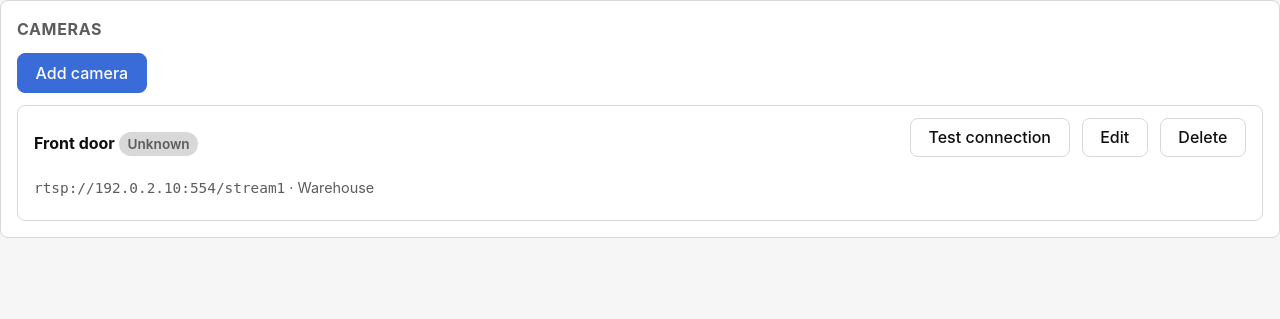
Test: CamerasPage › shows a row-level error if deleting fails
Step 1. Click the button "Delete" → point(1203, 137), box [1160,118,1246,157]
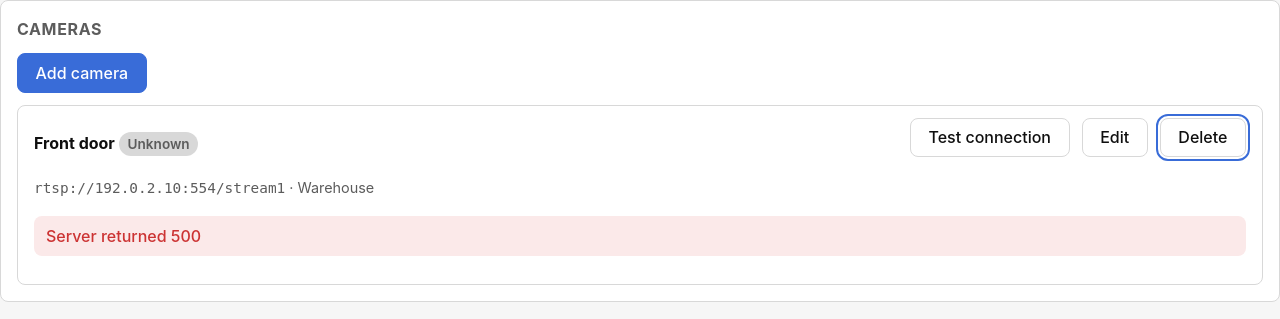
Expected: the text "Server returned 500" is shown, [34,216,1246,256]
